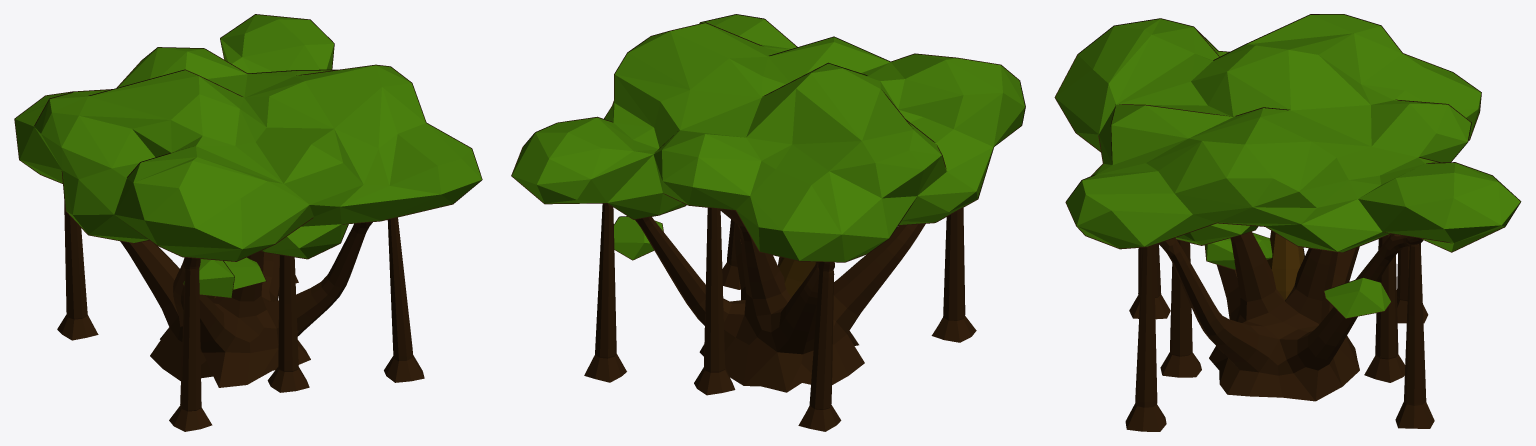
The model's file is BanyanTree_(Outlined)v003.fbx.
The picture shows the model from 3 angles, left to right: view 1: azimuth 30°, elevation 25°; view 2: azimuth 150°, elevation 25°; view 3: azimuth 270°, elevation 25°; orthographic projection. The views are drawn at different scales.
Visible parts, largest first — view 1: BanyanTree; view 2: BanyanTree; view 3: BanyanTree.
Boxes of the visible parts, x1,y1,x2,y2 form: BanyanTree: (14, 14, 482, 431); BanyanTree: (511, 14, 1025, 431); BanyanTree: (1054, 14, 1521, 431).
Size of the model in its own units: 1667 by 1305 by 1811.
